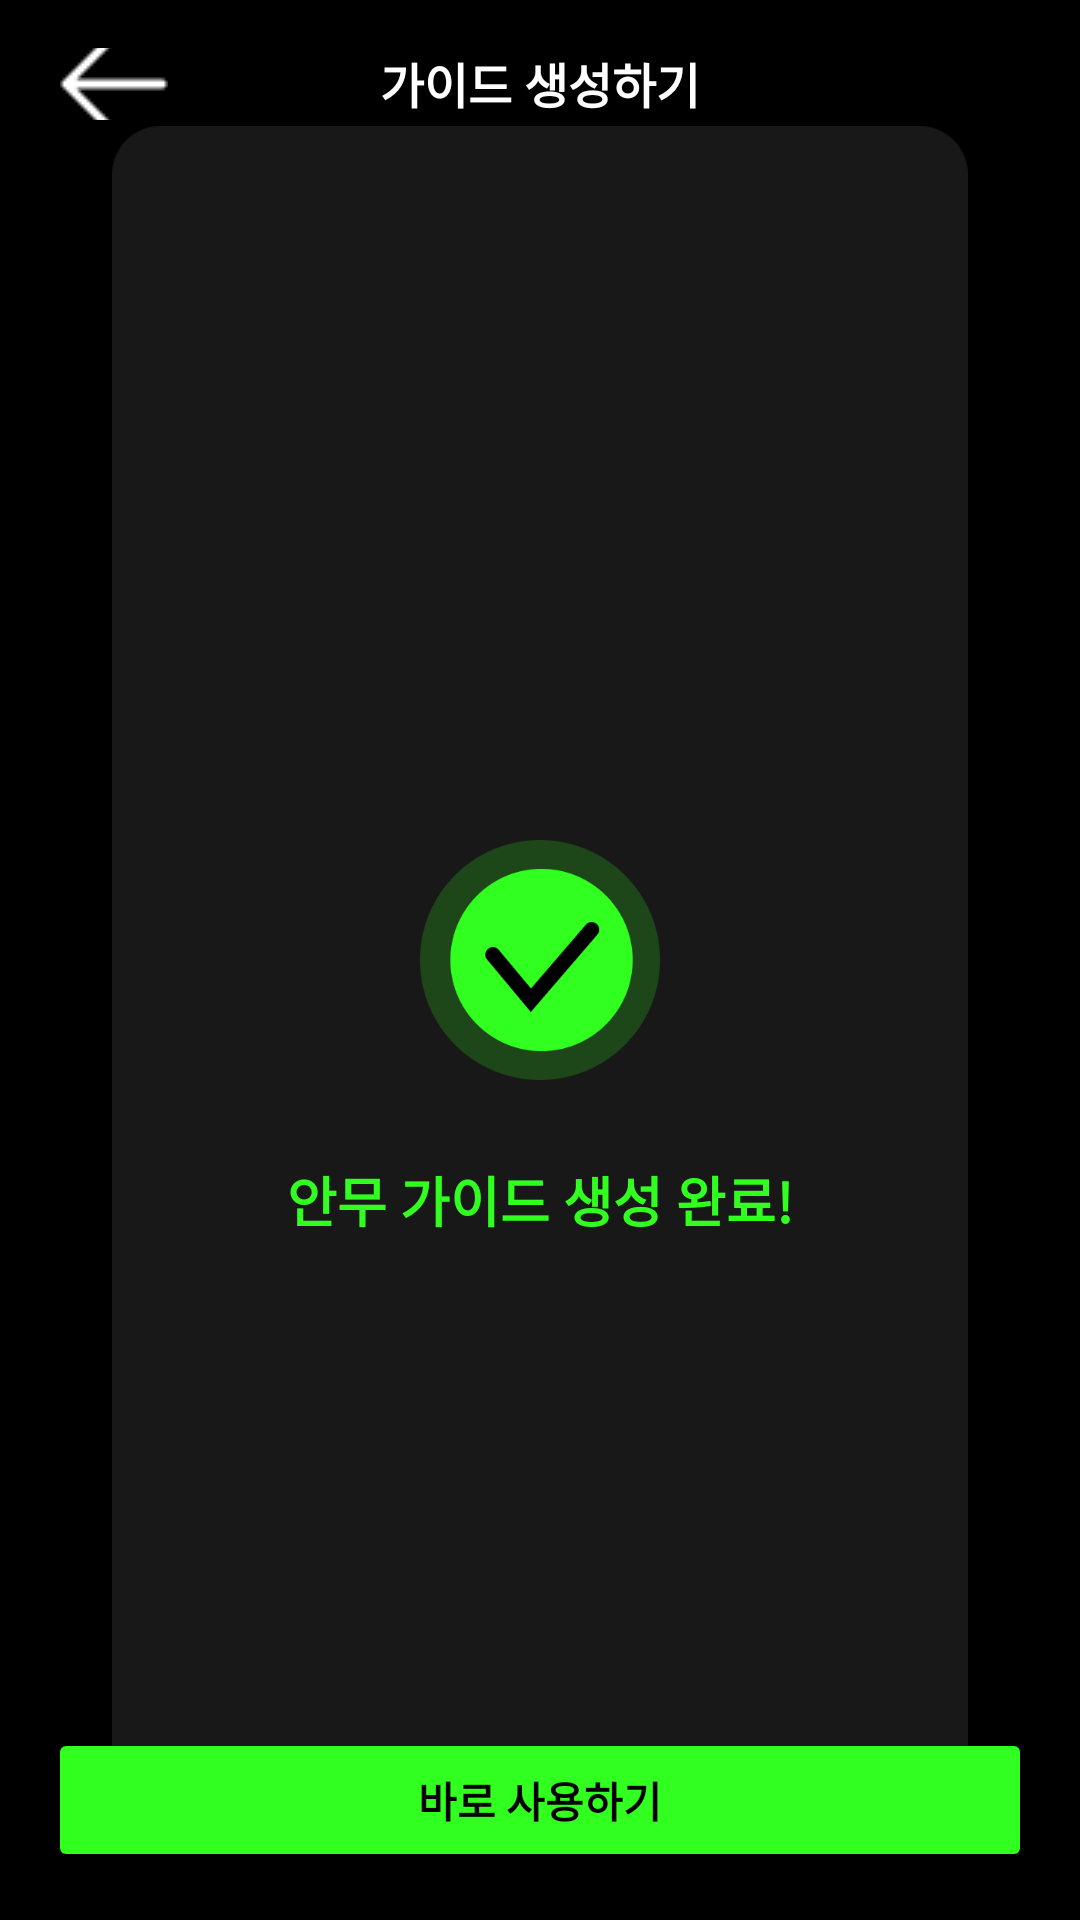

Screen size 1080 x 1920. Icon name, then its box in pixels as (x1, y1, x2, y2):
Back: (60, 48, 168, 120)
check: (420, 840, 660, 1080)
